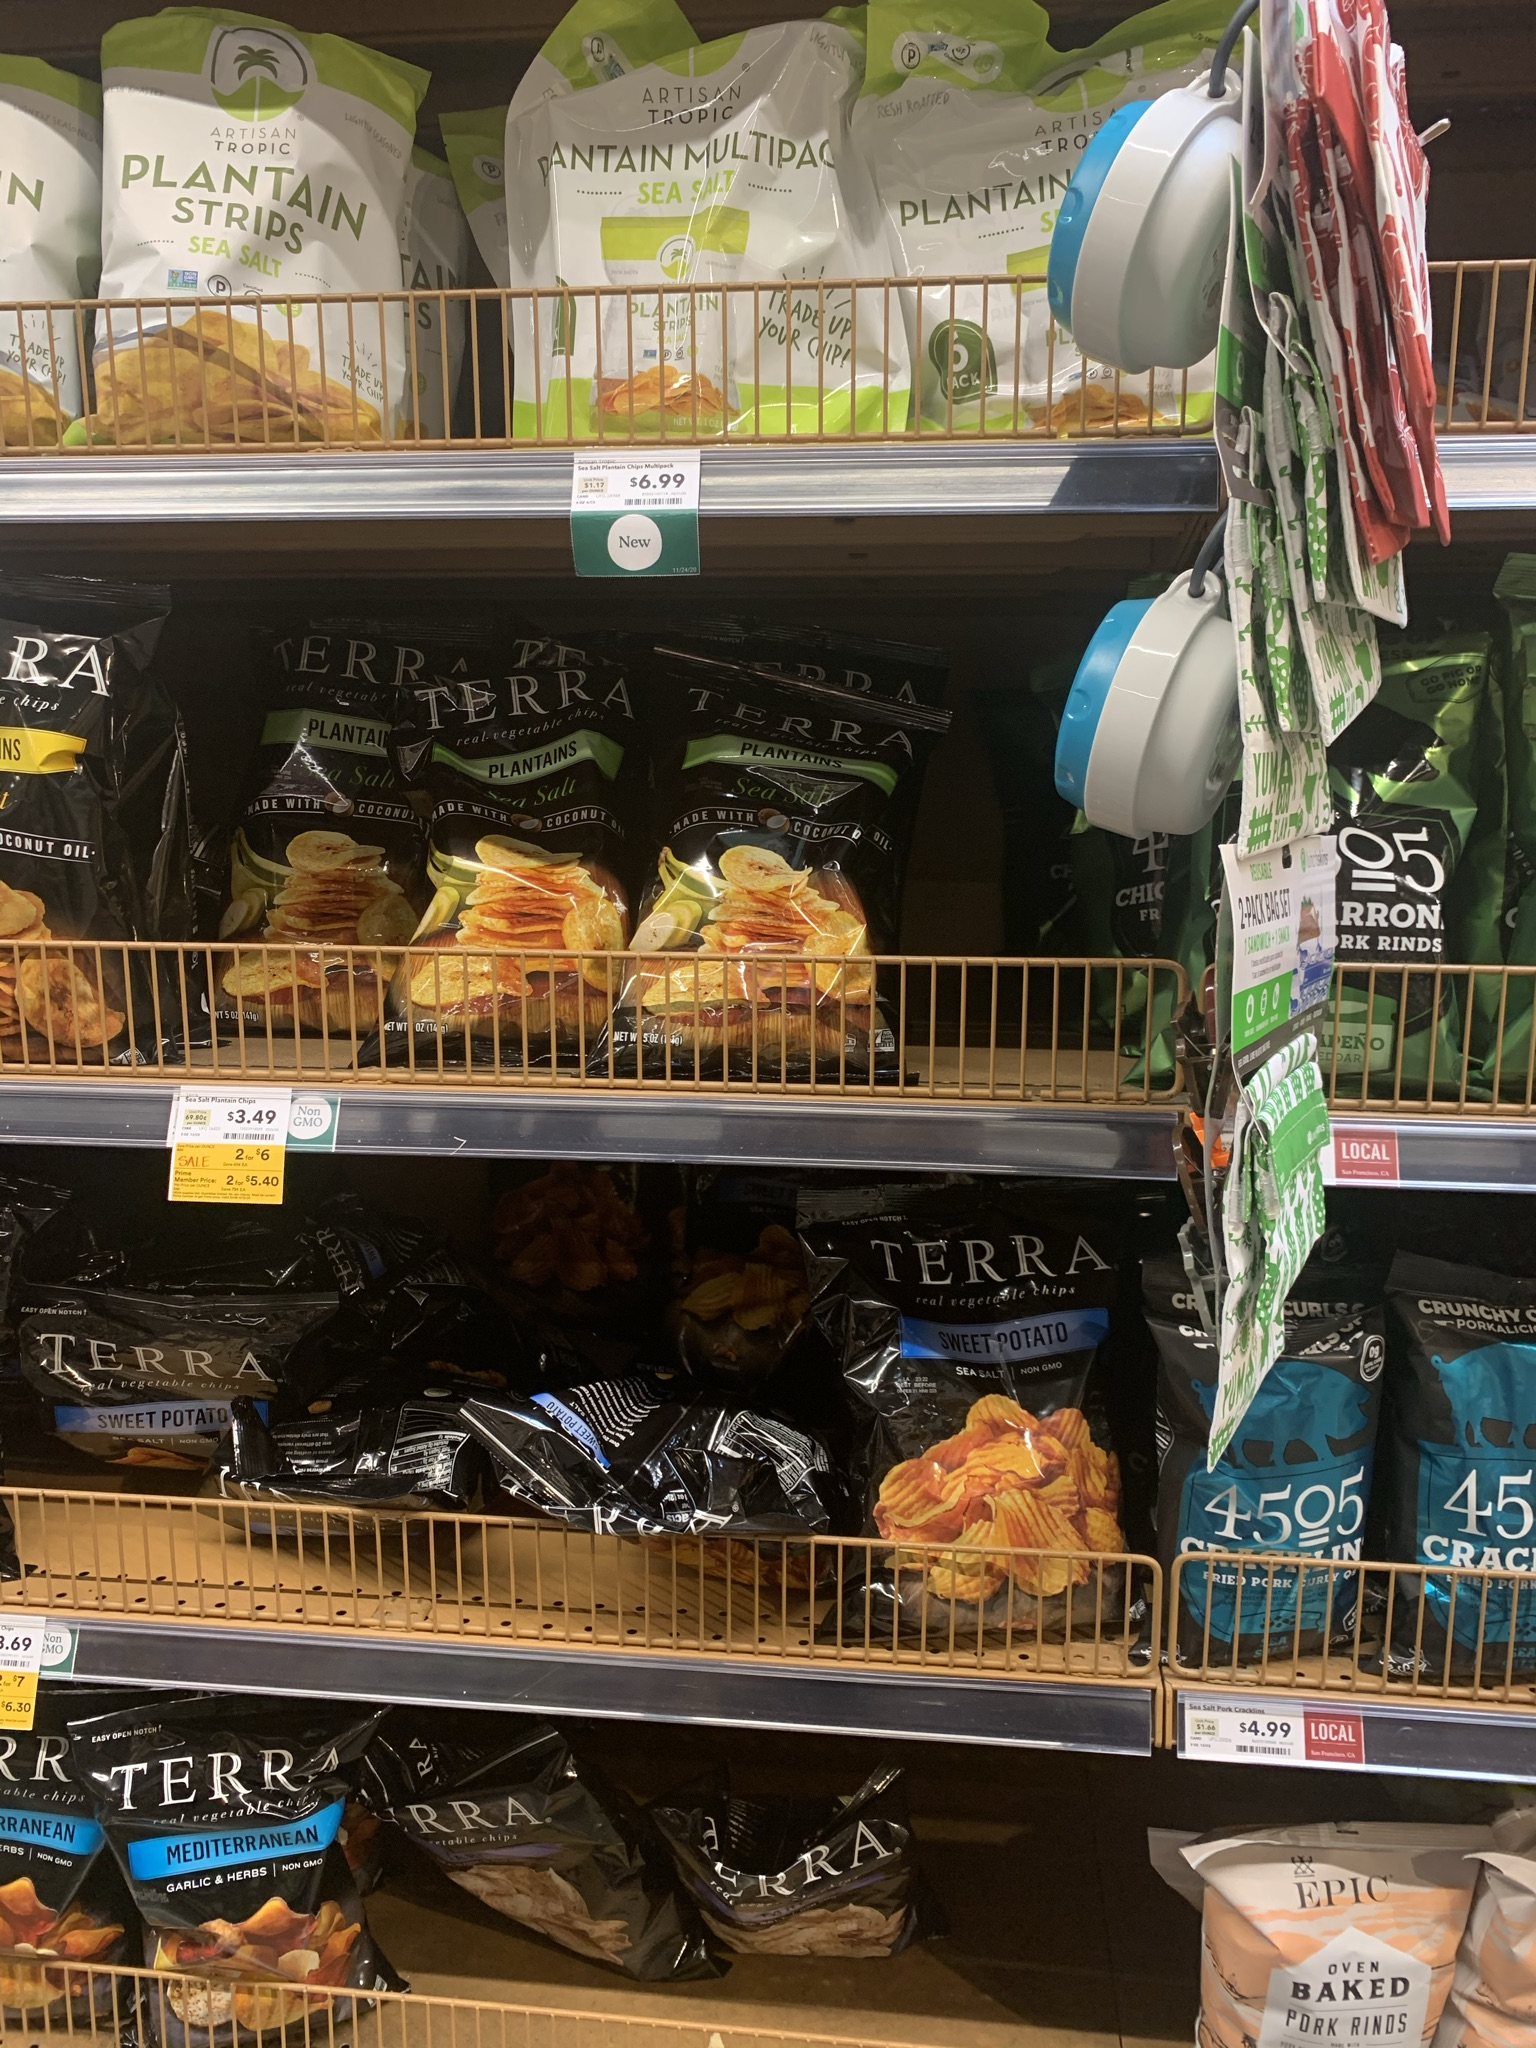Chips: (507, 6, 912, 442), (808, 1187, 1154, 1630), (97, 18, 418, 440), (660, 658, 912, 1077), (395, 640, 641, 1021)
